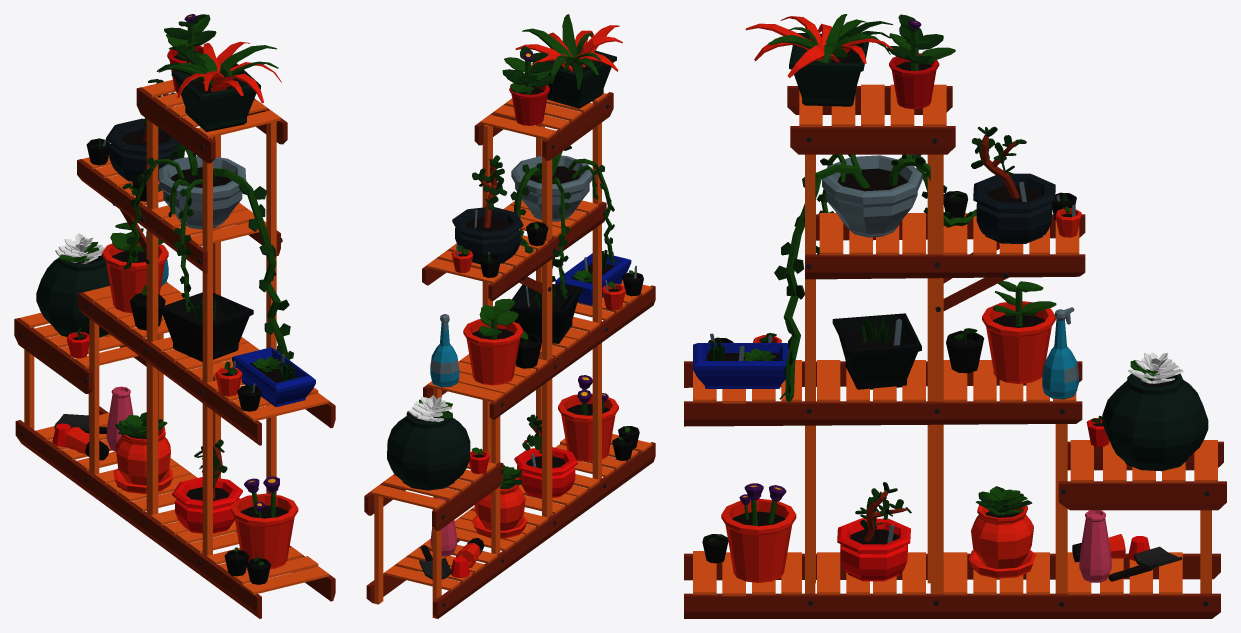
Rendered from ShelvesPlants (1).fbx.
The picture shows the model from 3 angles, left to right: view 1: azimuth 30°, elevation 25°; view 2: azimuth 150°, elevation 25°; view 3: azimuth 270°, elevation 25°; orthographic projection. The views are drawn at different scales.
Visible parts, largest first — view 1: 5COCzyz489J_0_0_0, 5COCzyz489J_2_0_0, 5COCzyz489J_1_0_0, 5COCzyz489J_3_0_0; view 2: 5COCzyz489J_0_0_0, 5COCzyz489J_2_0_0, 5COCzyz489J_1_0_0, 5COCzyz489J_3_0_0; view 3: 5COCzyz489J_0_0_0, 5COCzyz489J_2_0_0, 5COCzyz489J_1_0_0, 5COCzyz489J_3_0_0.
Part boxes in pixels (left/top/right/bottom): 5COCzyz489J_0_0_0: left=14, top=14, right=335, bottom=618; 5COCzyz489J_2_0_0: left=36, top=242, right=315, bottom=584; 5COCzyz489J_1_0_0: left=86, top=79, right=293, bottom=361; 5COCzyz489J_3_0_0: left=55, top=233, right=104, bottom=263; 5COCzyz489J_0_0_0: left=364, top=14, right=655, bottom=618; 5COCzyz489J_2_0_0: left=387, top=250, right=643, bottom=579; 5COCzyz489J_1_0_0: left=430, top=145, right=615, bottom=387; 5COCzyz489J_3_0_0: left=408, top=395, right=452, bottom=421; 5COCzyz489J_0_0_0: left=684, top=14, right=1226, bottom=618; 5COCzyz489J_2_0_0: left=693, top=316, right=1208, bottom=582; 5COCzyz489J_1_0_0: left=774, top=126, right=1081, bottom=401; 5COCzyz489J_3_0_0: left=1128, top=352, right=1183, bottom=383.
Bounding box in the file's own units: 0.083 × 0.3978 × 0.3382.
